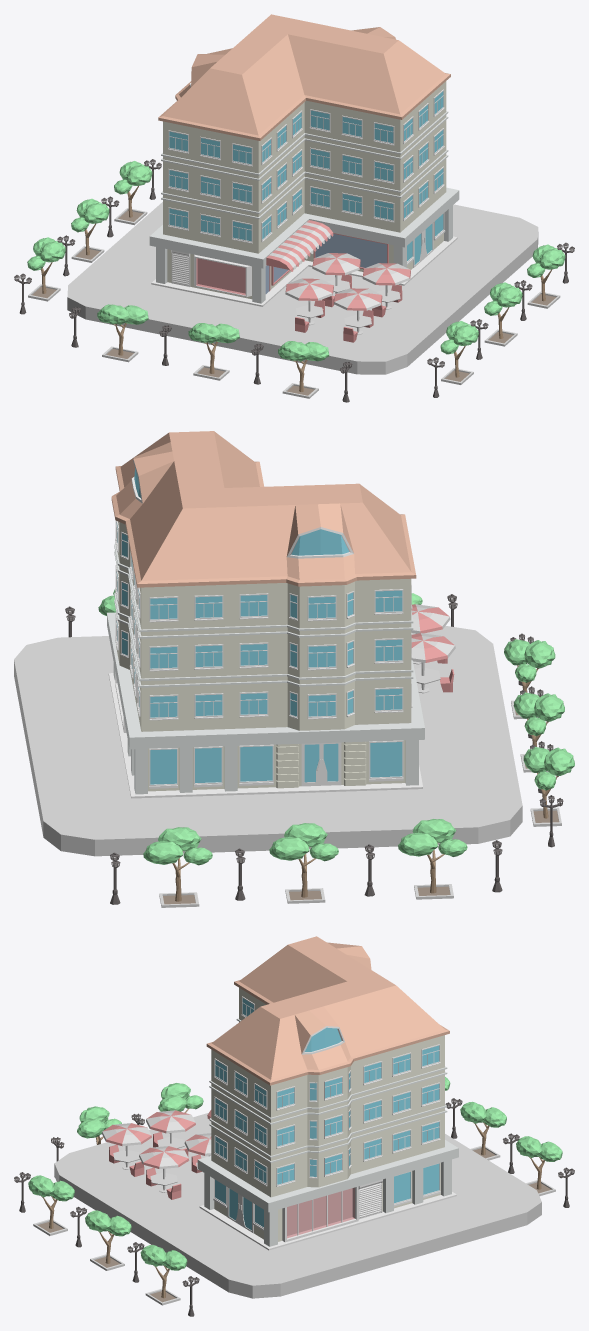
The model's file is Restoraunttttttt.fbx.
3 views of the same model, one above another, from view 1: azimuth 30°, elevation 25°; view 2: azimuth 150°, elevation 25°; view 3: azimuth 270°, elevation 25° (orthographic). The views are drawn at different scales.
Visible parts, largest first — view 1: Building_facad, Platform, Cylinder_3_16.003, glass_24, shed, Disc_5; view 2: Building_facad, Platform, Cylinder_3_16.003, glass_24, shed, Disc_5; view 3: Building_facad, Platform, Cylinder_3_16.003, glass_24, shed, Disc_5.
Boxes of the visible parts, <box> form: Building_facad: <box>149,14,459,306</box>; Platform: <box>67,202,538,374</box>; Cylinder_3_16.003: <box>14,159,574,402</box>; glass_24: <box>168,89,444,243</box>; shed: <box>156,205,452,303</box>; Disc_5: <box>285,253,410,342</box>; Building_facad: <box>107,431,424,798</box>; Platform: <box>14,626,522,856</box>; Cylinder_3_16.003: <box>65,589,574,907</box>; glass_24: <box>115,520,412,720</box>; shed: <box>113,663,418,794</box>; Disc_5: <box>411,604,455,693</box>; Building_facad: <box>197,936,458,1250</box>; Platform: <box>54,1113,541,1298</box>; Cylinder_3_16.003: <box>14,1077,574,1316</box>; glass_24: <box>214,996,440,1186</box>; shed: <box>204,1110,451,1246</box>; Disc_5: <box>102,1110,211,1199</box>.
Size of the model in its own units: 403 by 205 by 438.
